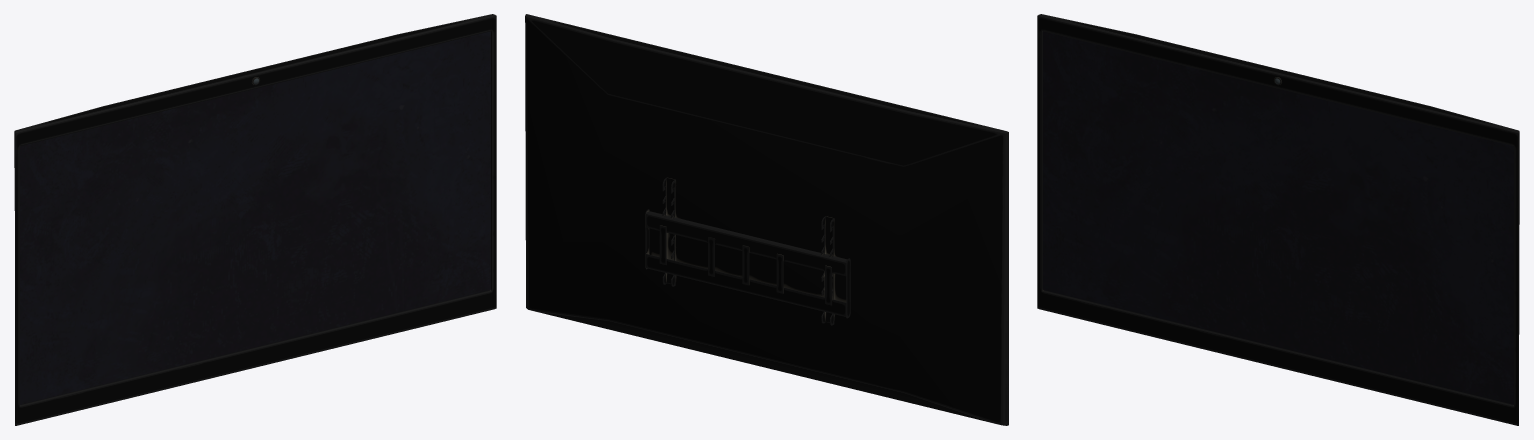
The model's file is tv_with_a_wall_mount.glb.
3 views of the same model, side by side, from view 1: azimuth 30°, elevation 25°; view 2: azimuth 150°, elevation 25°; view 3: azimuth 330°, elevation 25° (orthographic).
Visible parts, largest first — view 1: InteractiveWhiteboard; view 2: InteractiveWhiteboard; view 3: InteractiveWhiteboard.
Part boxes in pixels (box(x1,y1,x2,y2)): InteractiveWhiteboard: box(14, 14, 496, 425); InteractiveWhiteboard: box(525, 14, 1008, 425); InteractiveWhiteboard: box(1037, 14, 1519, 425).
Size of the model in its own units: 3.07 by 1.79 by 0.2504.
1 material, 1 textured.
